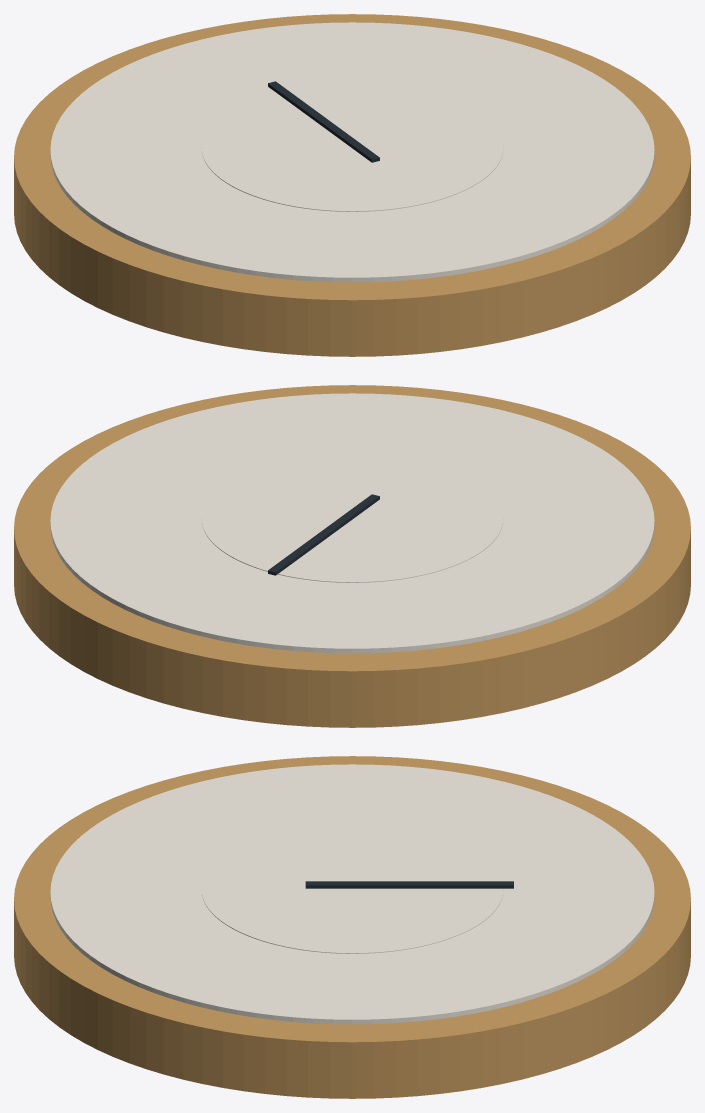
Rendered from barometer.glb.
3 renders of one model, top to bottom at view 1: azimuth 30°, elevation 25°; view 2: azimuth 150°, elevation 25°; view 3: azimuth 270°, elevation 25°, orthographic.
Visible parts, largest first — view 1: dial_backing, circular_case, mesh_weather_screen, needle; view 2: dial_backing, circular_case, mesh_weather_screen, needle; view 3: dial_backing, circular_case, mesh_weather_screen, needle.
Boxes of the visible parts, x1,y1,x2,y2 form: dial_backing: (50, 22, 654, 282); circular_case: (14, 14, 690, 356); mesh_weather_screen: (201, 83, 503, 211); needle: (268, 81, 379, 162); dial_backing: (50, 393, 654, 653); circular_case: (14, 385, 690, 727); mesh_weather_screen: (201, 454, 503, 582); needle: (268, 494, 379, 575); dial_backing: (50, 764, 654, 1024); circular_case: (14, 756, 690, 1098); mesh_weather_screen: (201, 825, 503, 953); needle: (305, 881, 513, 888).
Bounding box in the file's own units: 2.6 × 0.307 × 2.6.
